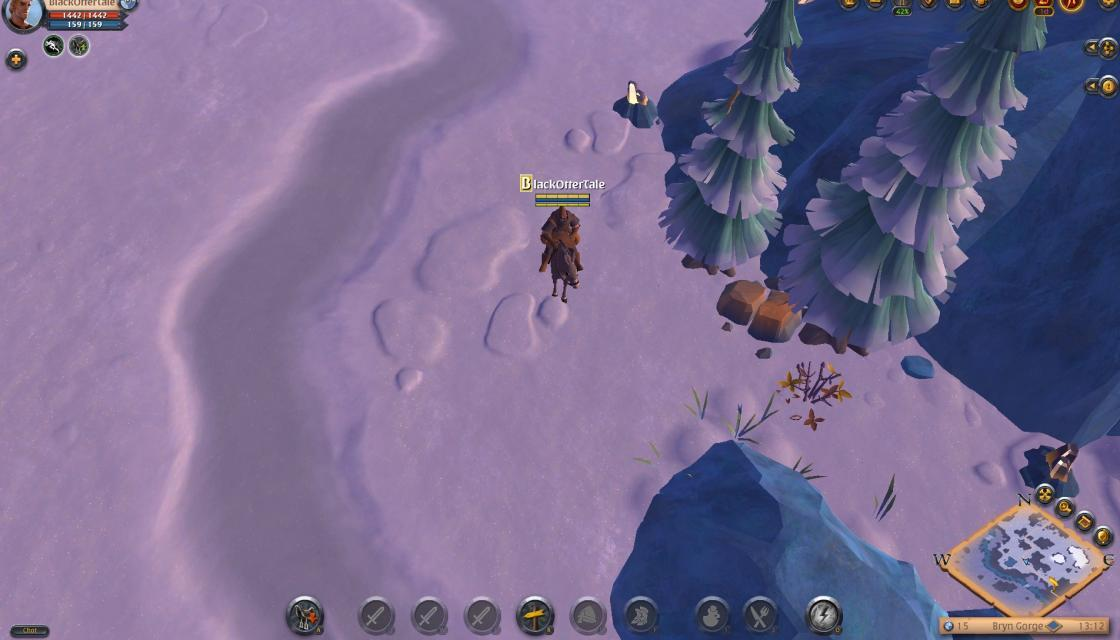copperore: (1021, 438, 1081, 492), (615, 76, 658, 134)
limestone: (716, 267, 808, 344)
